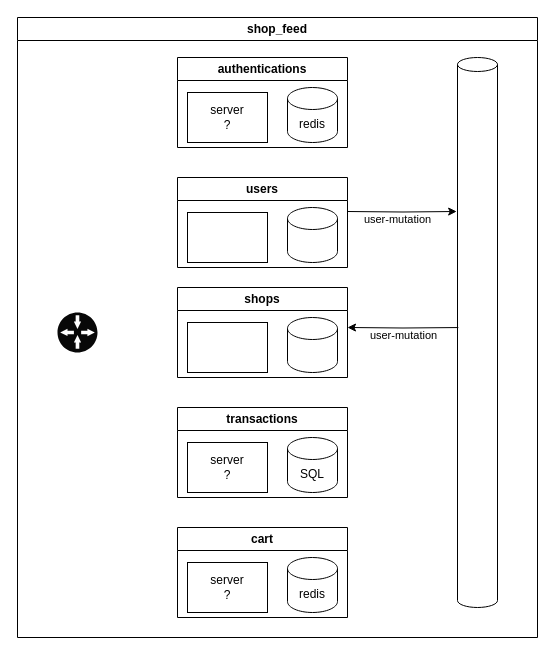
The diagram is 555 pixels wide and 655 high, and some of its shapes have lost their labels. Each missing label, with the centre of its shape:
Gateway (?): point 77,332
kafka cluster: point 477,332
MySQL: point 312,234
PGSQL: point 312,344
server java [spring]: point 227,237
server python [fastapi]: point 227,347
